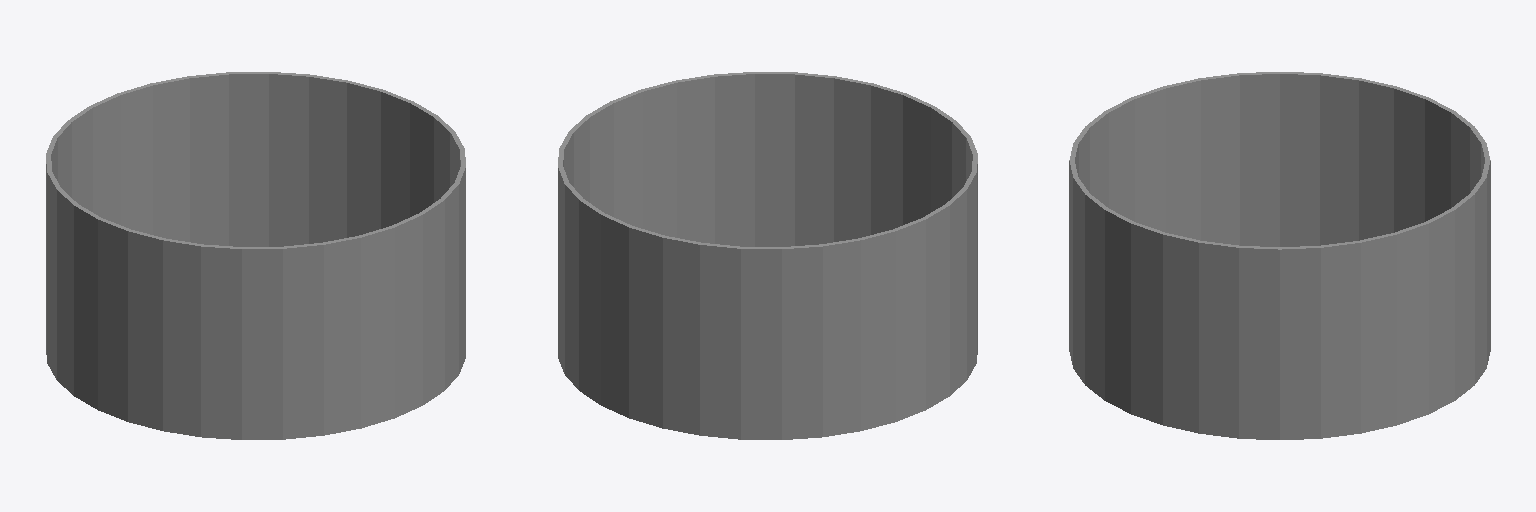
The model's file is gate18.obj.
3 renders of one model, left to right at view 1: azimuth 30°, elevation 25°; view 2: azimuth 150°, elevation 25°; view 3: azimuth 270°, elevation 25°, orthographic.
Parts seen in each view (by area): view 1: Cylinder; view 2: Cylinder; view 3: Cylinder.
Part boxes in pixels (x1,y1,x2,y2): Cylinder: (46,72,465,439); Cylinder: (558,72,977,439); Cylinder: (1069,72,1490,439).
Size of the model in its own units: 2 by 1 by 2.